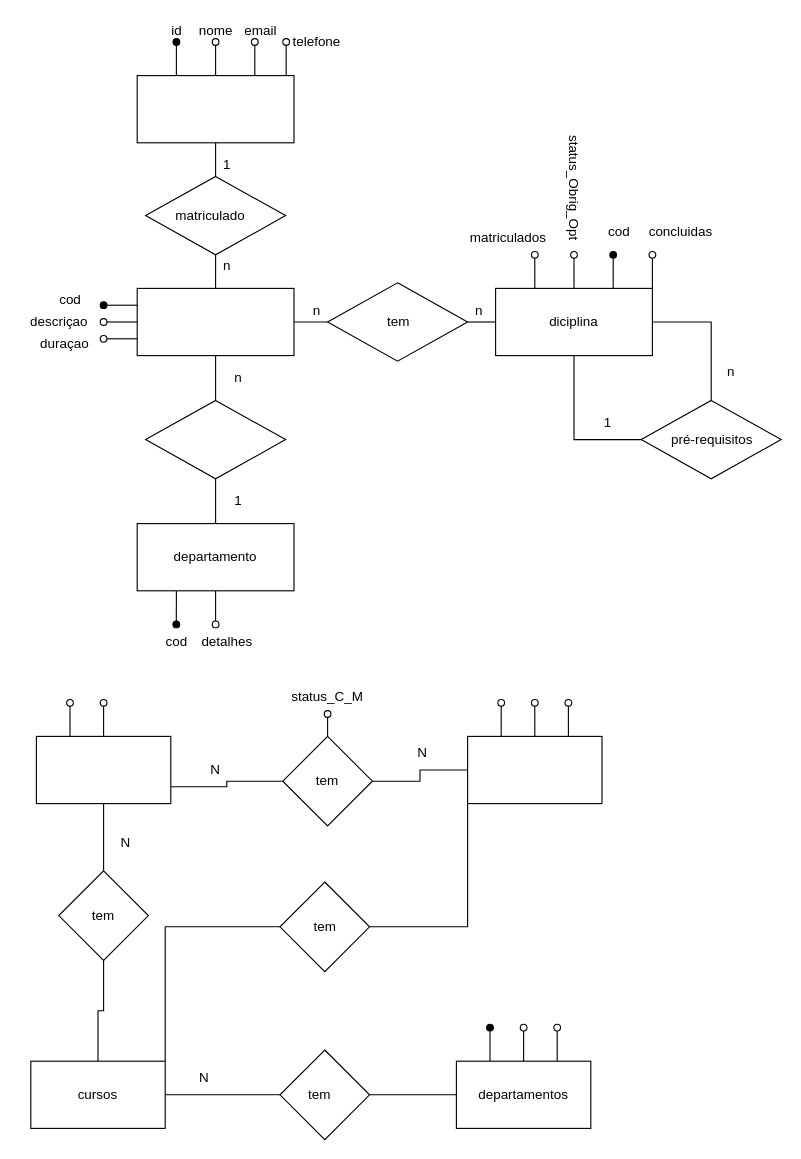
Some shapes in this 801 by 1159 pixel diagram are drawn without their labels. Each missing label, with the box of its shape:
Aluno: (136, 74, 294, 143)
alunos: (35, 735, 171, 804)
curso: (136, 287, 294, 356)
disciplinas: (466, 735, 602, 804)
responsavel: (144, 399, 286, 479)
